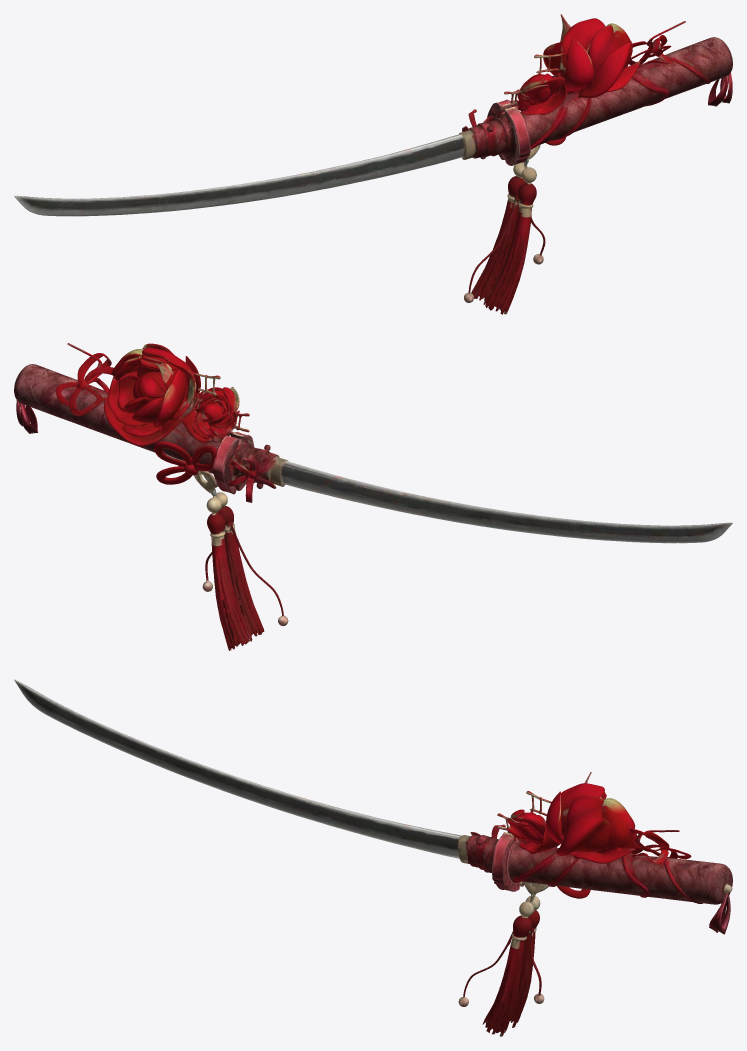
File: katana-blade.glb
3 renders of one model, top to bottom at view 1: azimuth 30°, elevation 25°; view 2: azimuth 150°, elevation 25°; view 3: azimuth 330°, elevation 25°, orthographic.
Size of the model in its own units: 1.9 by 0.6847 by 0.2018.
Materials: 1 (1 with a texture image).
